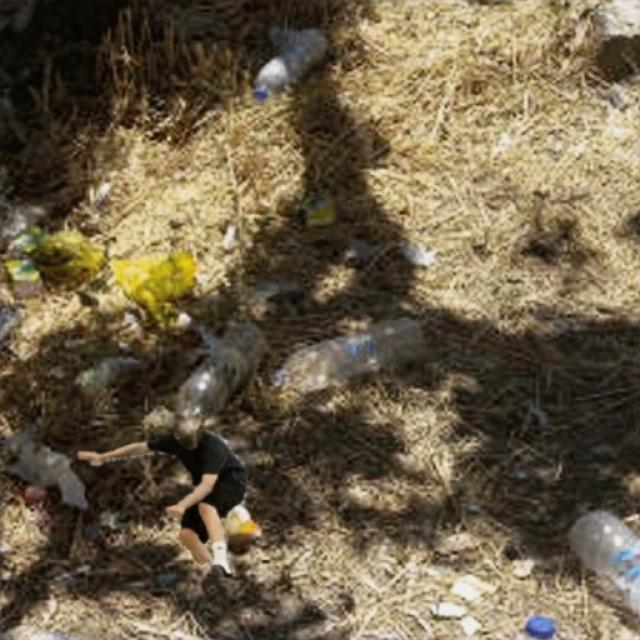Person in Rubble: (77, 430, 245, 576)
